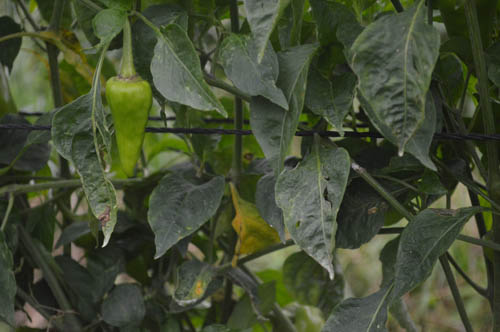ChiliPepper: (103, 77, 153, 177)
